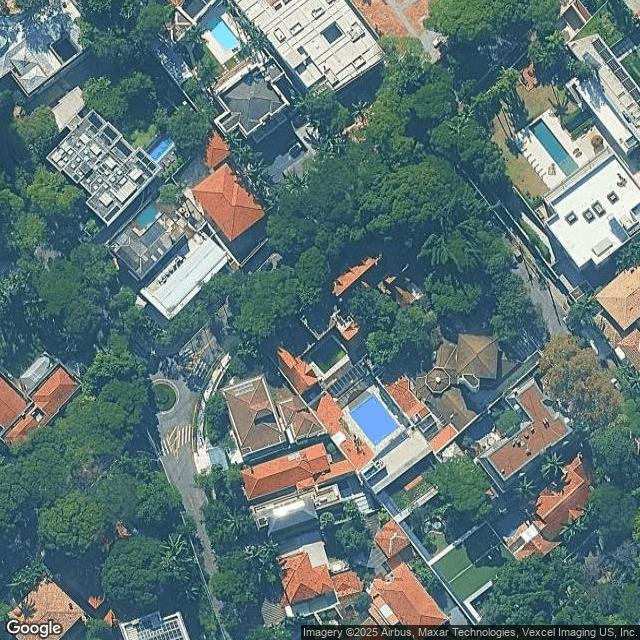pool: (215, 37, 238, 63), (154, 140, 170, 164), (370, 415, 382, 444), (548, 142, 557, 175), (143, 217, 152, 240)
